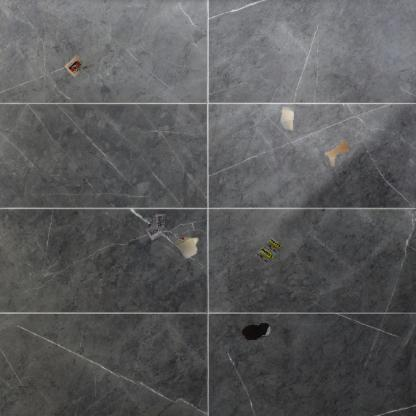dirty: (254, 236, 284, 266), (173, 235, 201, 261), (62, 53, 89, 78), (144, 212, 166, 242), (279, 106, 294, 131)
liquid: (324, 140, 350, 166), (242, 322, 270, 340)
